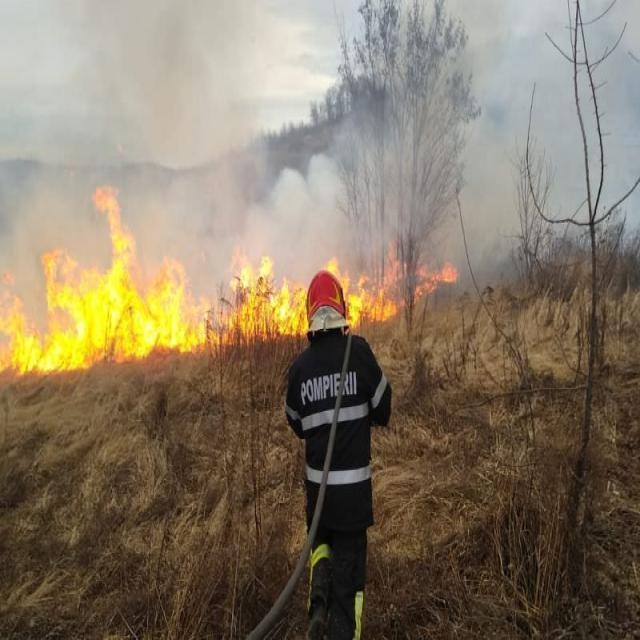Fire: (0, 177, 300, 367), (344, 272, 397, 326)
Smoke: (2, 0, 639, 248)
